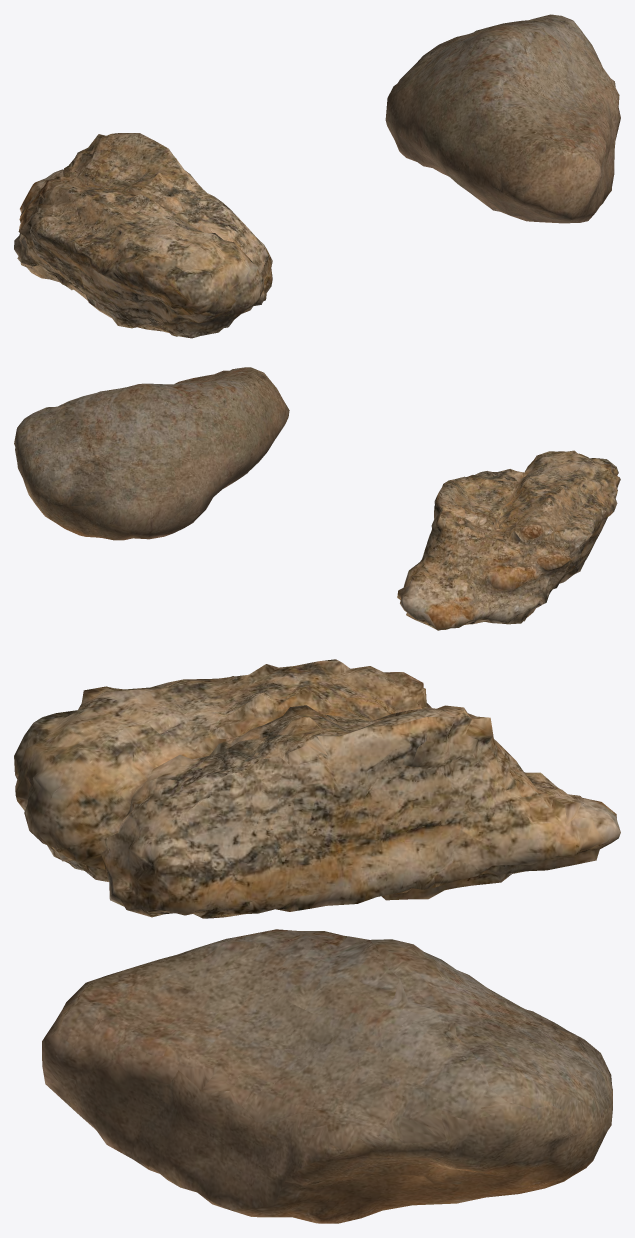
The model's file is namaqualand_boulders_01.glb.
3 renders of one model, top to bottom at view 1: azimuth 30°, elevation 25°; view 2: azimuth 150°, elevation 25°; view 3: azimuth 270°, elevation 25°, orthographic. The views are drawn at different scales.
Parts seen in each view (by area): view 1: namaqualand_rocks_01_a, namaqualand_rocks_01_b; view 2: namaqualand_rocks_01_a, namaqualand_rocks_01_b; view 3: namaqualand_rocks_01_a, namaqualand_rocks_01_b.
Part boxes in pixels (x1,y1,x2,y2): namaqualand_rocks_01_a: (385,14,620,223); namaqualand_rocks_01_b: (14,133,272,338); namaqualand_rocks_01_a: (14,367,289,540); namaqualand_rocks_01_b: (397,450,620,630); namaqualand_rocks_01_a: (42,929,612,1223); namaqualand_rocks_01_b: (14,659,620,918).
Bounding box in the file's own units: 1.06 × 0.2516 × 0.5835.
Materials: 1 (1 with a texture image).
